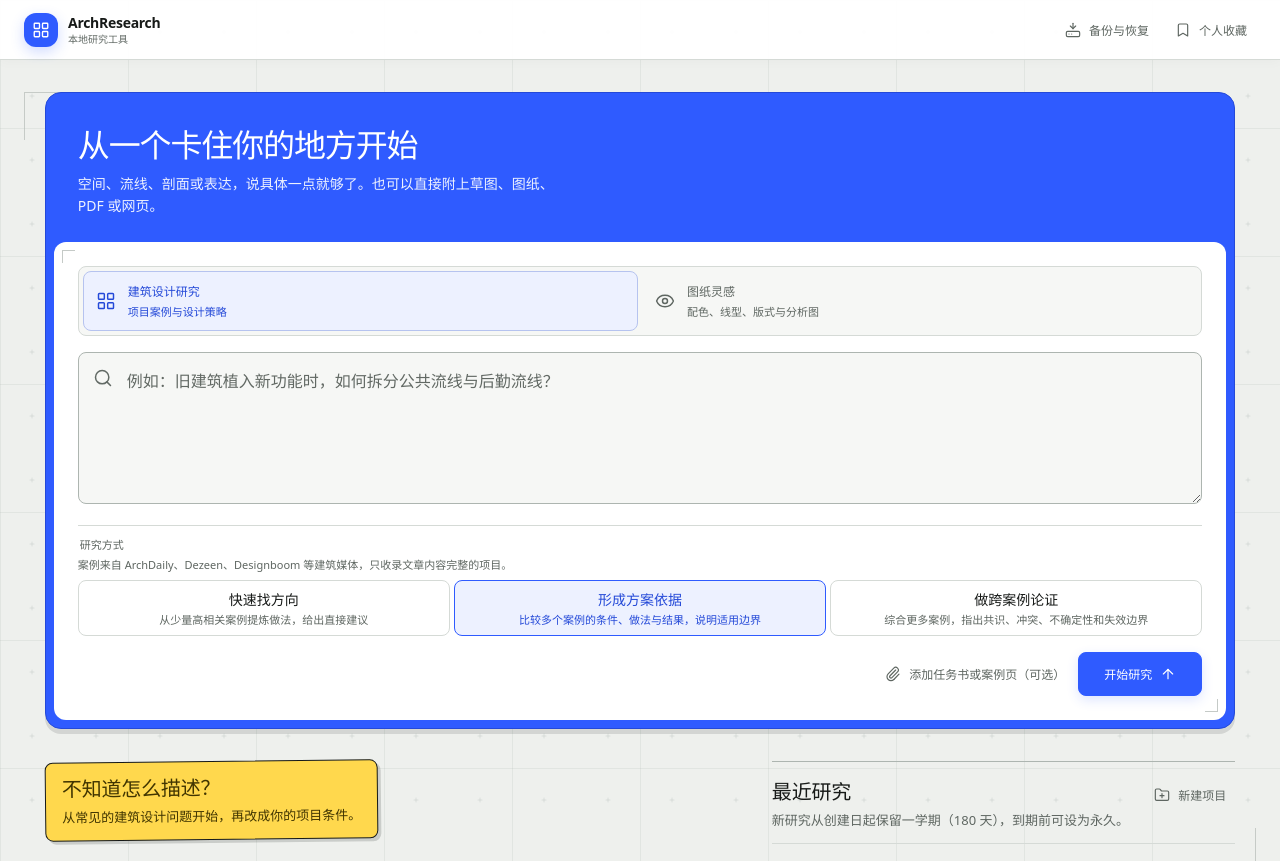
Scenario: research board › flags an overdue this-browser backup record without overclaiming other machines
The width and height of the screenshot is (1280, 861).
Click the button "备份与恢复" at (1107, 30), box [1056,12,1158,46]
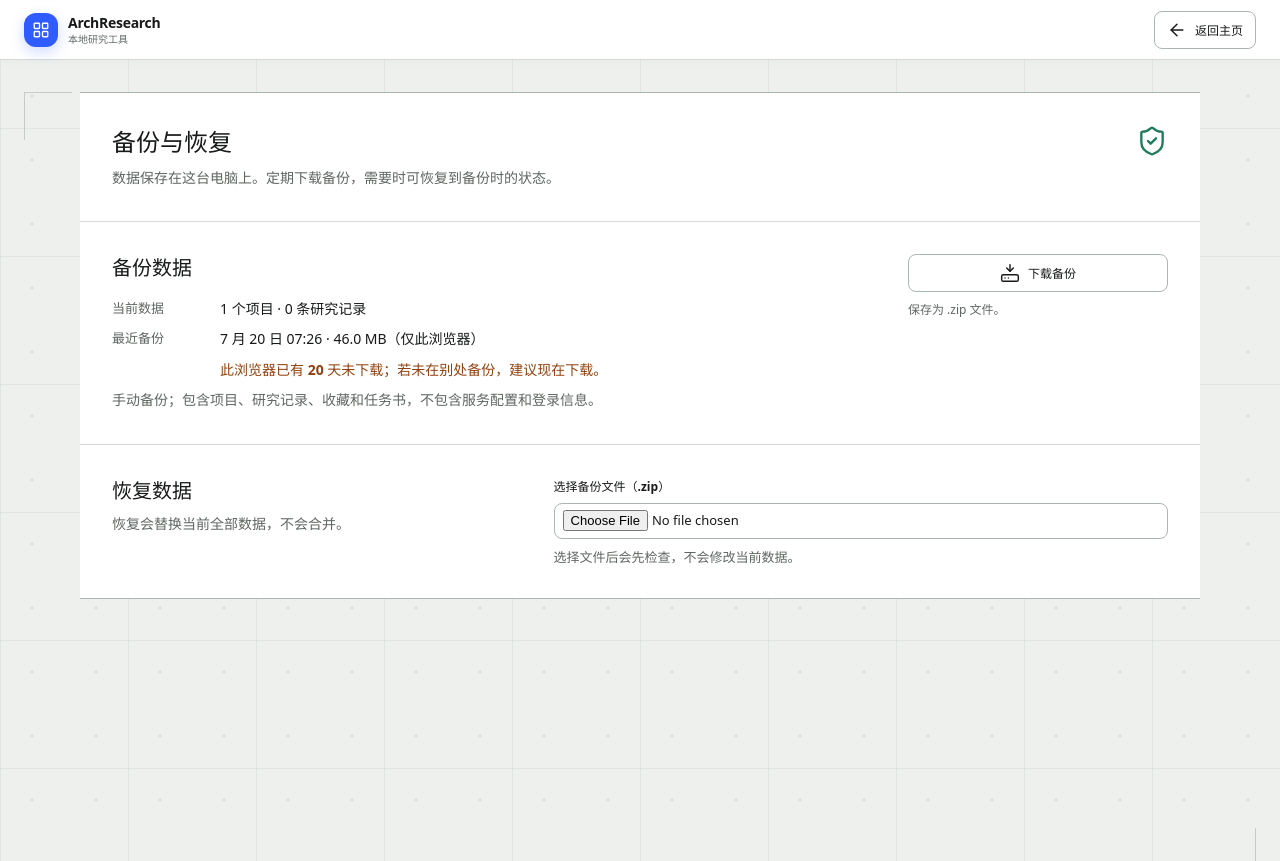
Now the text "此浏览器已有 20 天未下载；若未在别处备份，建议现在下载。" is shown, box [220,360,607,379]
Now the text "46.0 MB" is shown, box [220,329,485,348]
